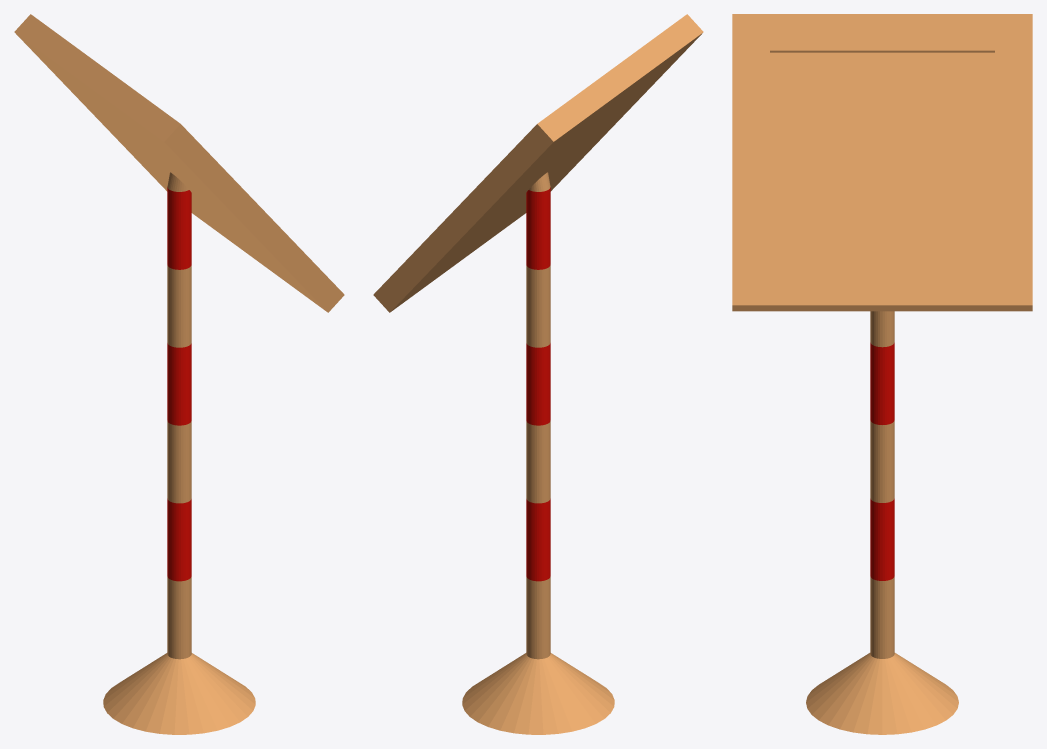
File: Labyrinth Puzzle.fbx
The picture shows the model from 3 angles, left to right: view 1: azimuth 30°, elevation 25°; view 2: azimuth 150°, elevation 25°; view 3: azimuth 270°, elevation 25°; orthographic projection.
Visible parts, largest first — view 1: Cylinder, Cube; view 2: Cylinder, Cube; view 3: Cube, Cylinder.
Part boxes in pixels (x1=…): Cylinder: x1=103, y1=172, x2=255, y2=734; Cube: x1=14, y1=14, x2=344, y2=312; Cylinder: x1=462, y1=172, x2=614, y2=734; Cube: x1=373, y1=14, x2=703, y2=312; Cube: x1=732, y1=14, x2=1032, y2=311; Cylinder: x1=806, y1=311, x2=958, y2=734.
Bounding box in the file's own units: 278 × 400 × 958.
